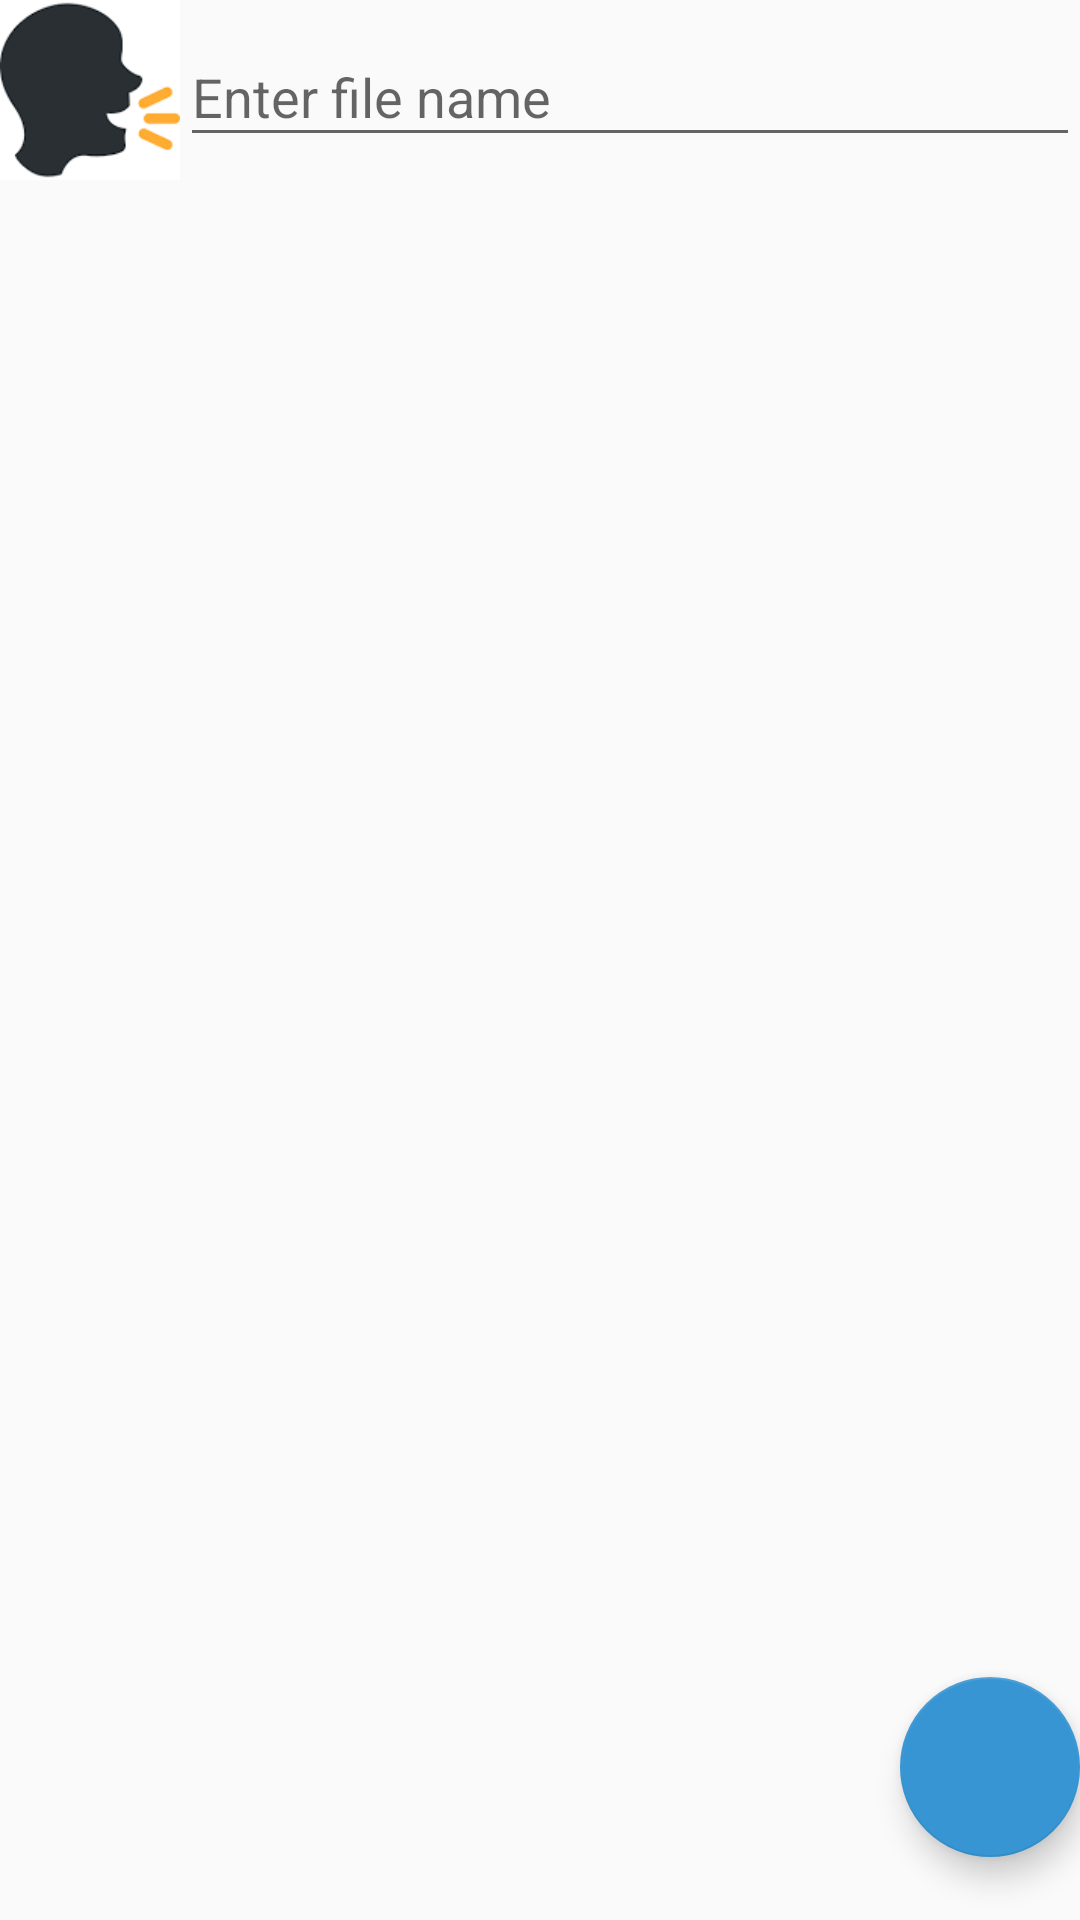

Where icons sit on this 1080 × 1920 app screen, as {"left": x1, "top": y1, "right": x2, "bottom": y2}:
speak: {"left": 0, "top": 3, "right": 180, "bottom": 177}
